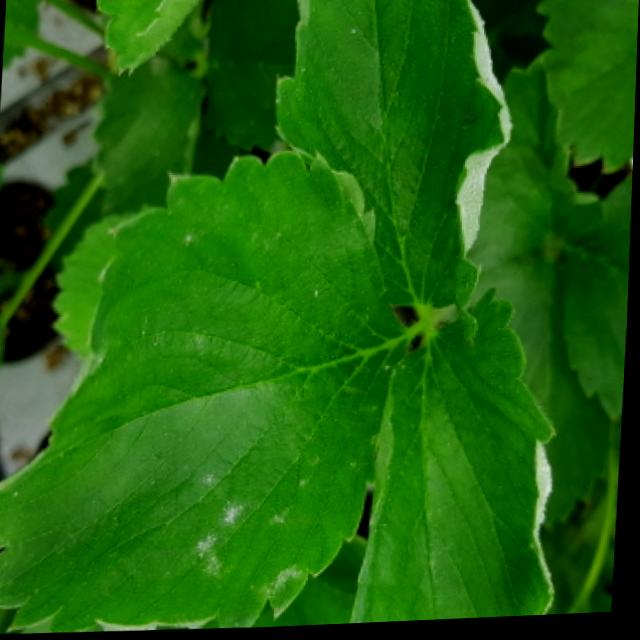Powdery Mildew Leaf: (0, 149, 415, 634), (274, 0, 513, 345), (352, 291, 564, 627), (96, 0, 201, 80)
